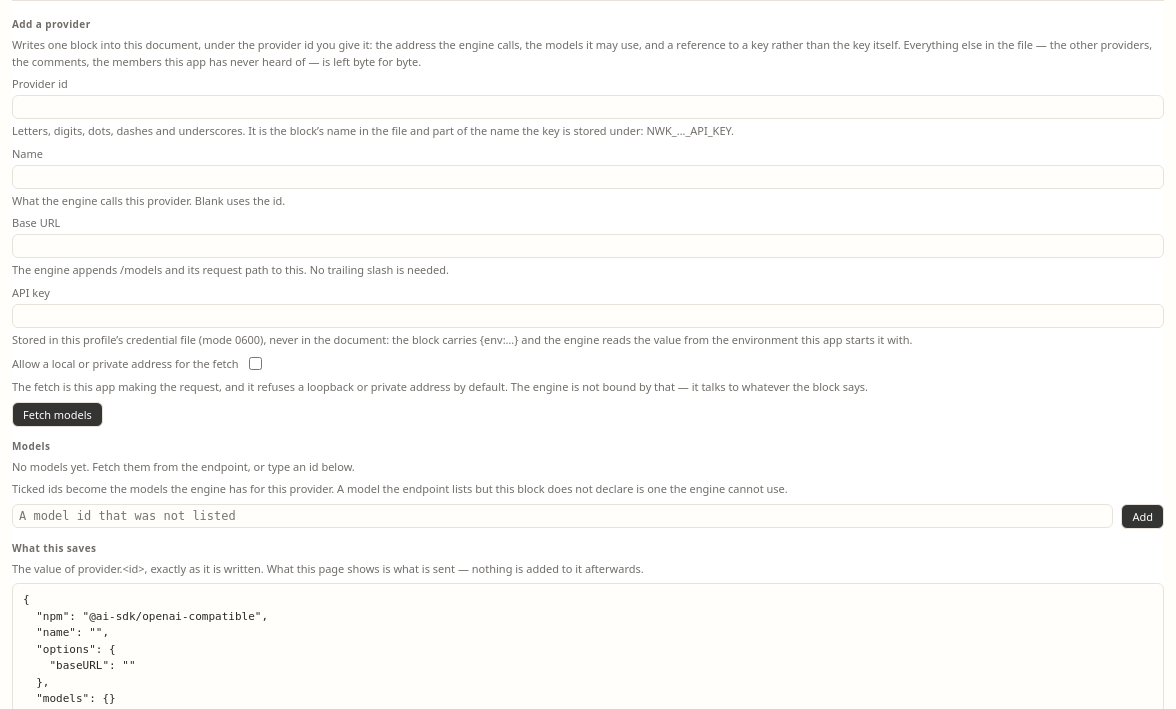
Test: fetching the models › draws the ids it was given, named for a person, ticked
Type "iapp" into the 1st field.
click(588, 107); type("iapp")  # box [12, 95, 1164, 119]
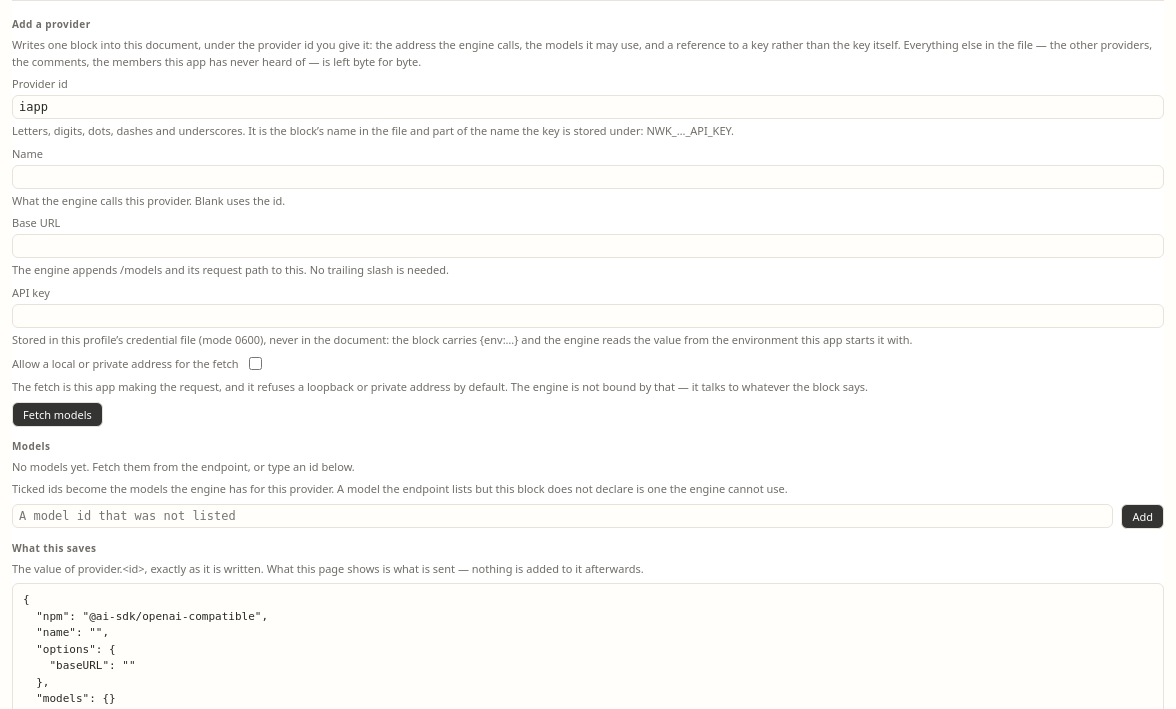
Type "iApp Gateway" into the field labelled "Name What the engine calls this provider. Blank uses the id.".
click(588, 176); type("iApp Gateway")  # box [12, 164, 1164, 188]
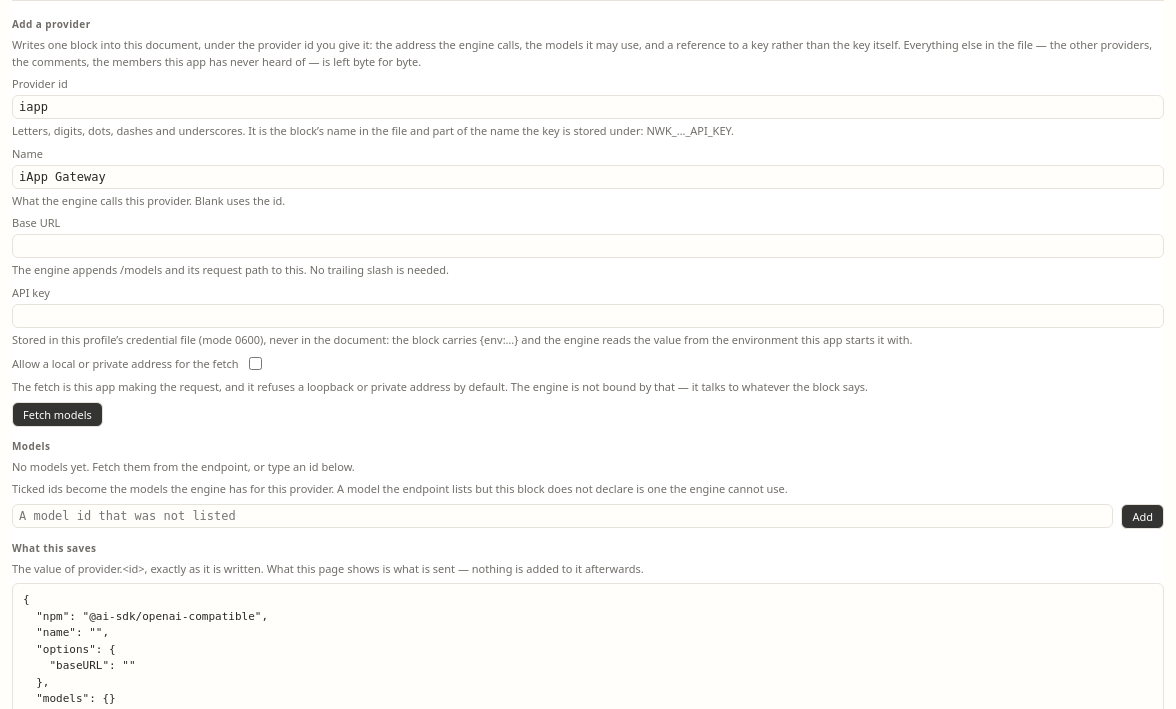
Type "https://ai.example.org/v1" into the field with test id "provider-form-base-url".
click(588, 246); type("https://ai.example.org/v1")  # box [12, 234, 1164, 258]
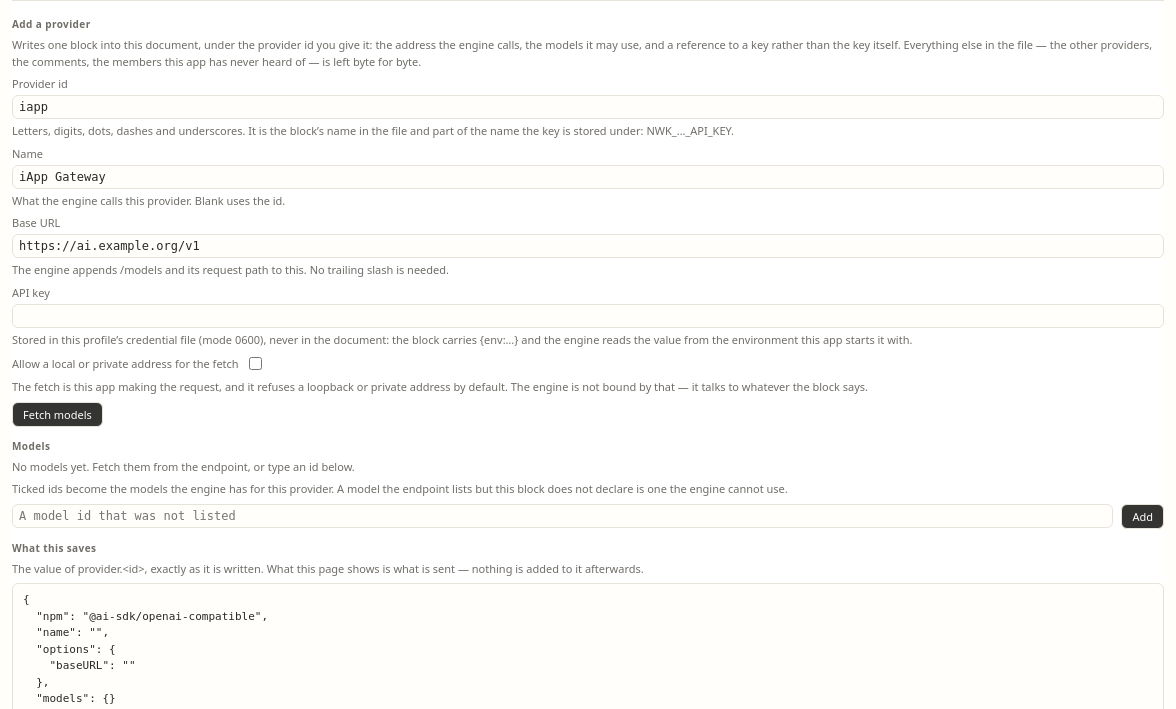
Type "sk-not-a-real-key" into the password field with test id "provider-form-api-key".
click(588, 316); type("sk-not-a-real-key")  # box [12, 304, 1164, 328]
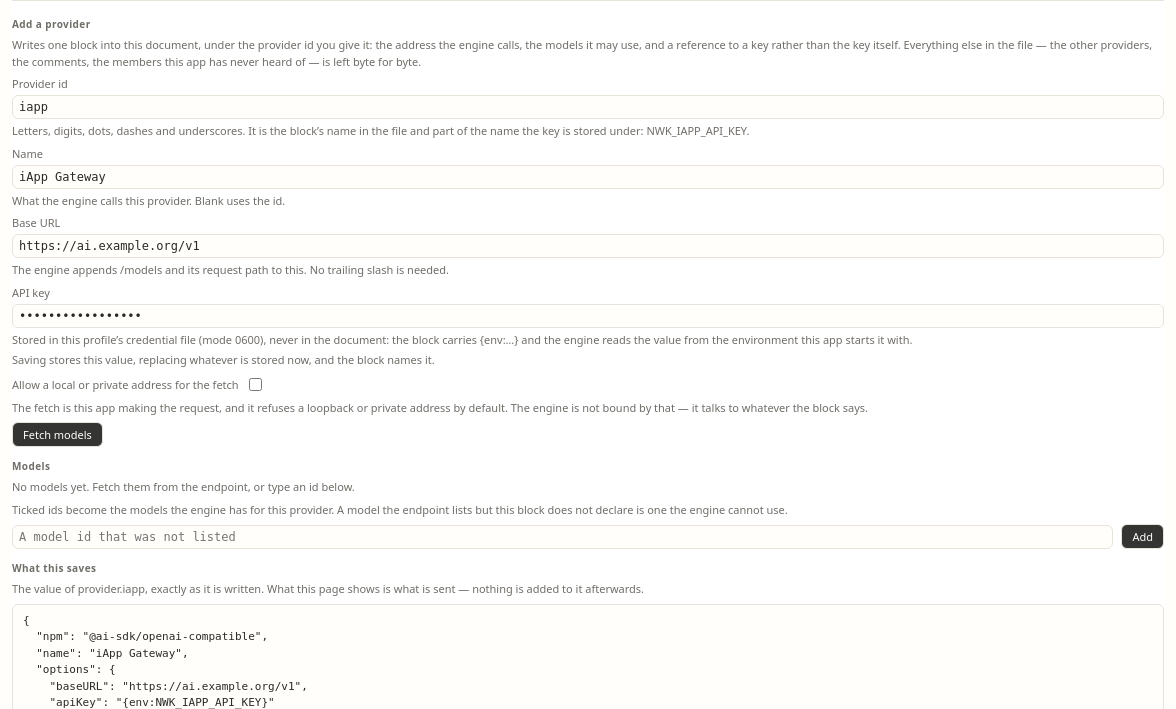
Click the button "Fetch models".
click(57, 434)  # box [12, 422, 103, 447]
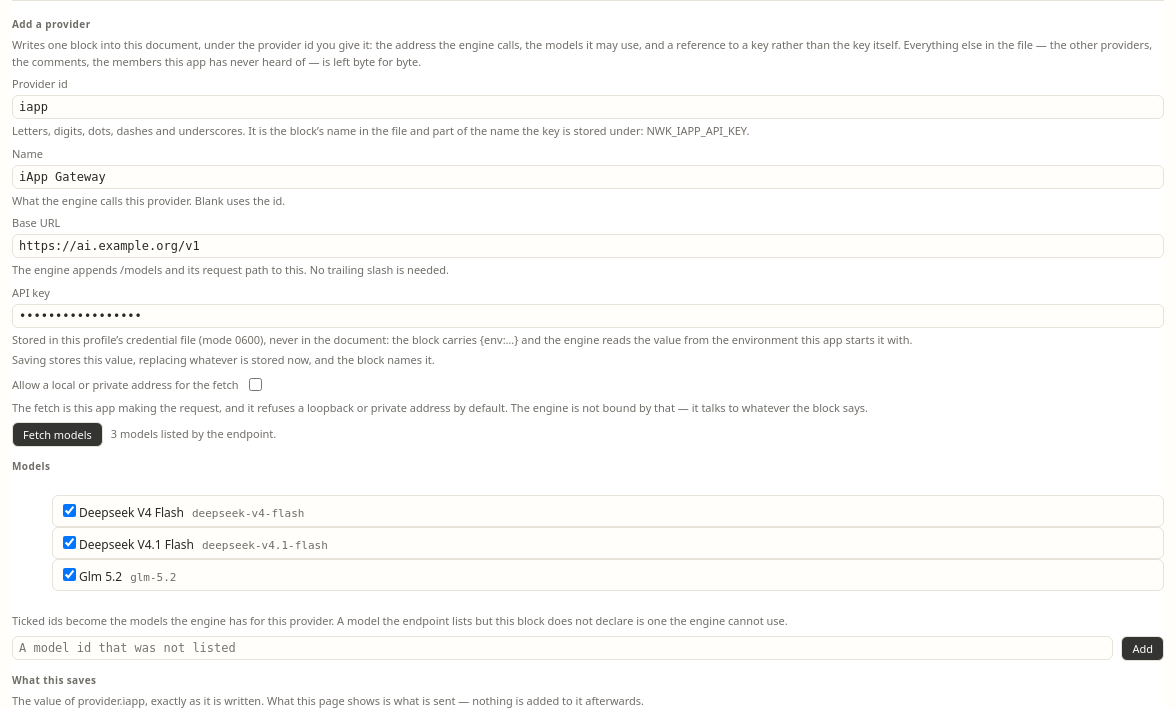
Expected: the checkbox labelled "Deepseek V4 Flash" is checked, [63, 504, 76, 517]
Expected: the checkbox labelled "Deepseek V4.1 Flash" is checked, [63, 536, 76, 549]
Expected: the checkbox labelled "Glm 5.2" is checked, [63, 568, 76, 581]
